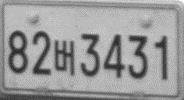1: (153, 34, 168, 81)
2: (31, 30, 52, 77)
3: (125, 34, 148, 80), (79, 33, 100, 76)
4: (102, 33, 126, 79)
8: (7, 30, 28, 73)
버: (53, 38, 76, 77)
